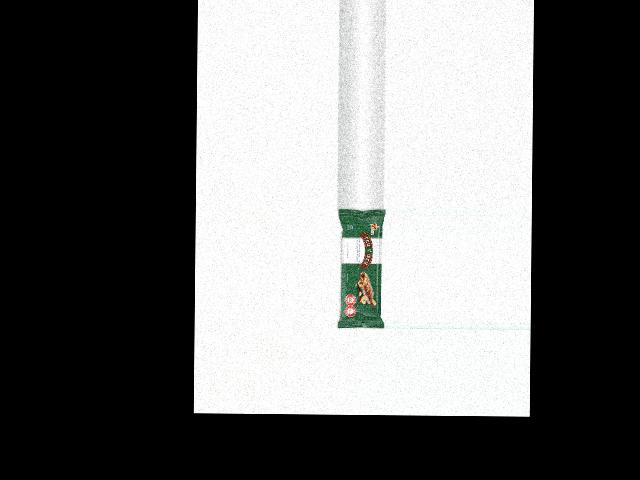chocolate: (334, 207, 385, 329)
